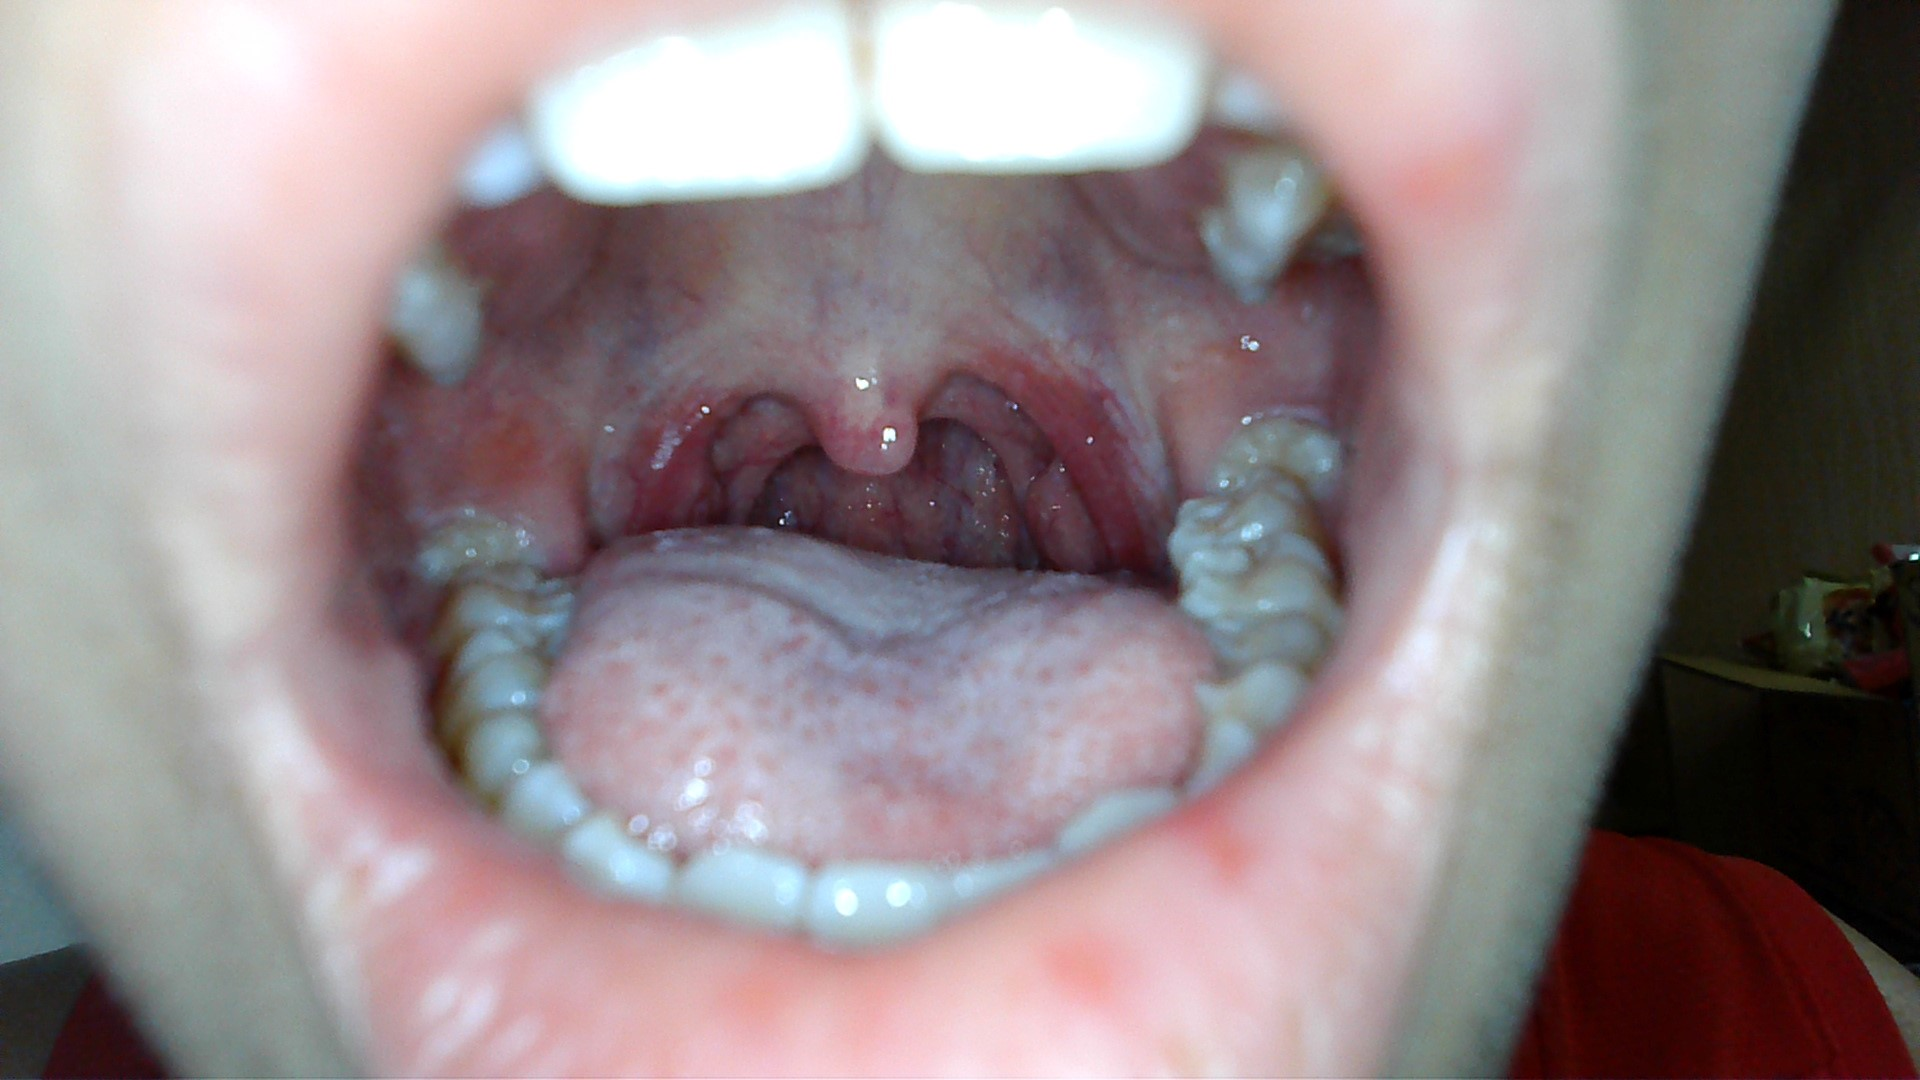throat: (986, 344, 1150, 568), (615, 348, 754, 512)
